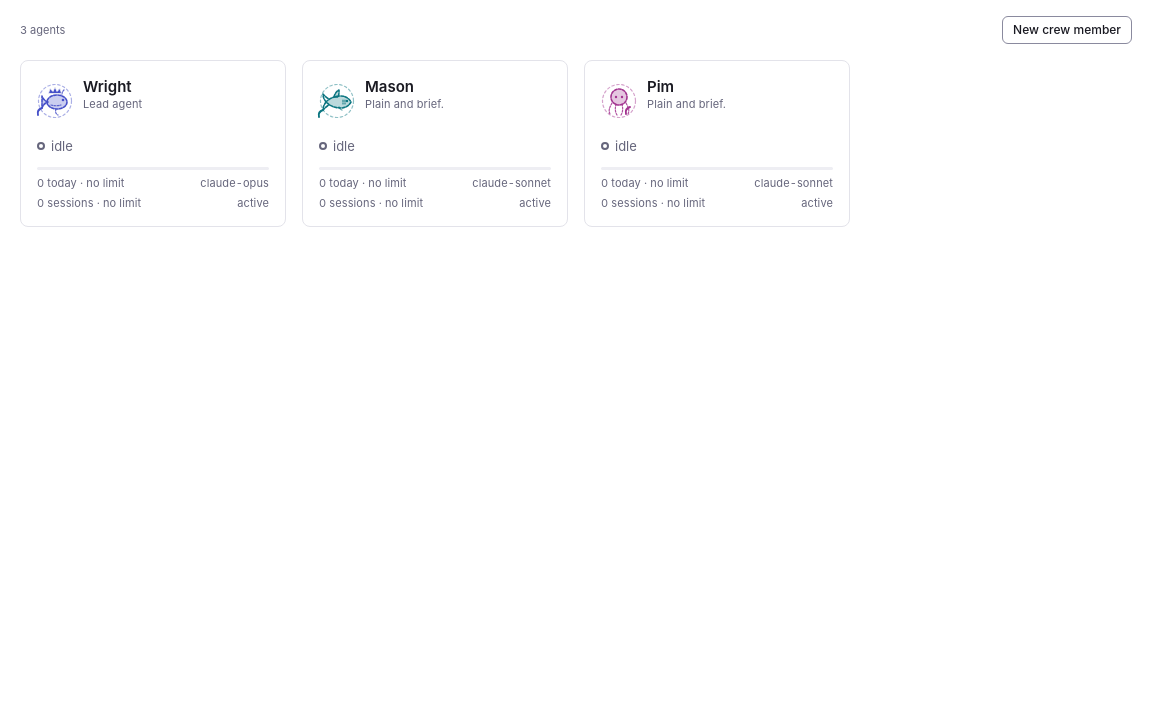
Test: the Connectors row › shows GitHub, granted, and the connector's state read from GET /connectors, for a crew member and for Wright
This screenshot has width=1152, height=703.
Click the button with test id "team-card" that starts with "Mason" at point(337, 101), box [302, 60, 568, 227]
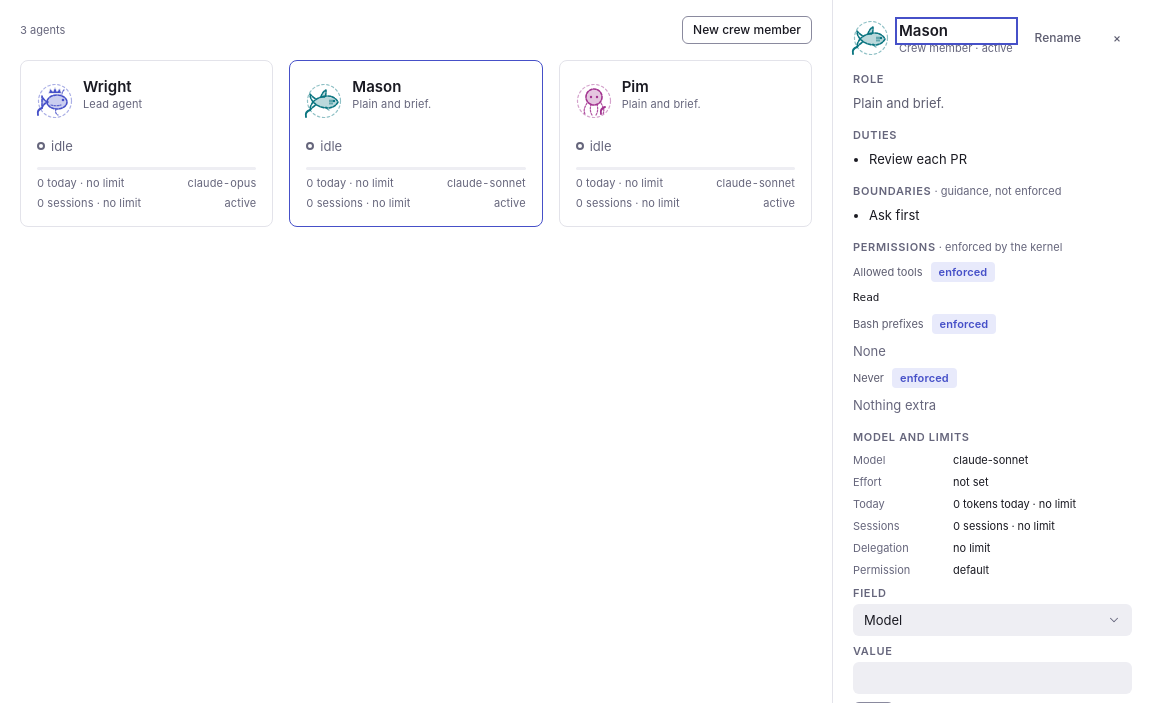
Click the button with test id "team-card" that starts with "Wright" at point(147, 144), box [20, 60, 273, 227]
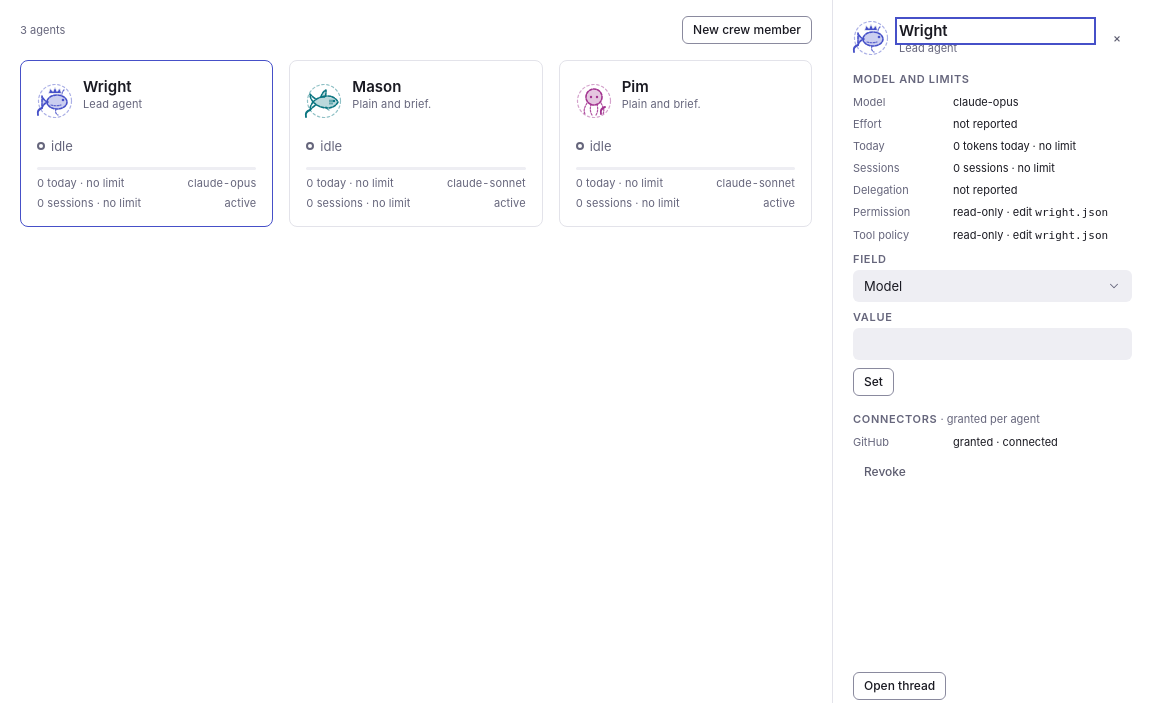
Expected: the text with test id "team-connector-grant" reads "granted", [953, 435, 993, 449]
Expected: the text with test id "team-connector-state" reads "connected", [1003, 435, 1058, 449]
